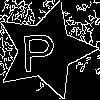P: (20, 25, 56, 72)
